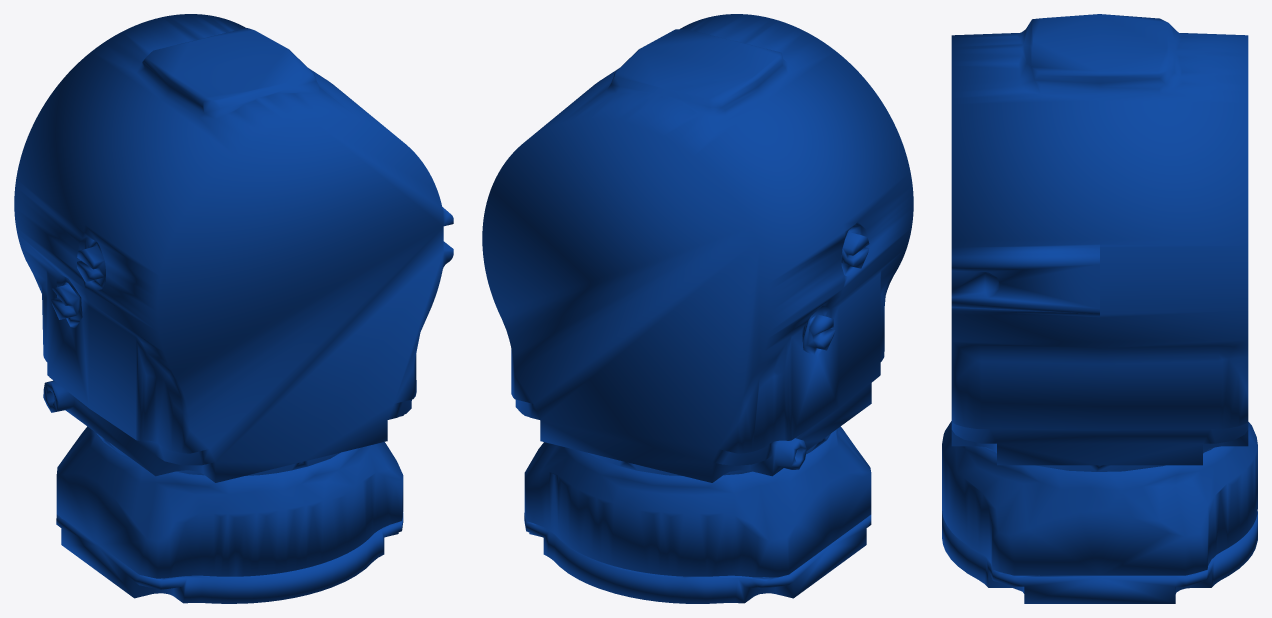
The model's file is YaskawaGP7Link5.dae.
3 views of the same model, side by side, from view 1: azimuth 30°, elevation 25°; view 2: azimuth 150°, elevation 25°; view 3: azimuth 270°, elevation 25° (orthographic). The views are drawn at different scales.
Visible parts, largest first — view 1: YaskawaGP7Link5; view 2: YaskawaGP7Link5; view 3: YaskawaGP7Link5.
Boxes of the visible parts, left/top/right/bottom form: YaskawaGP7Link5: left=14, top=14, right=453, bottom=603; YaskawaGP7Link5: left=482, top=14, right=913, bottom=603; YaskawaGP7Link5: left=942, top=14, right=1257, bottom=603.
Bounding box in the file's own units: 0.0776 × 0.066 × 0.114.
